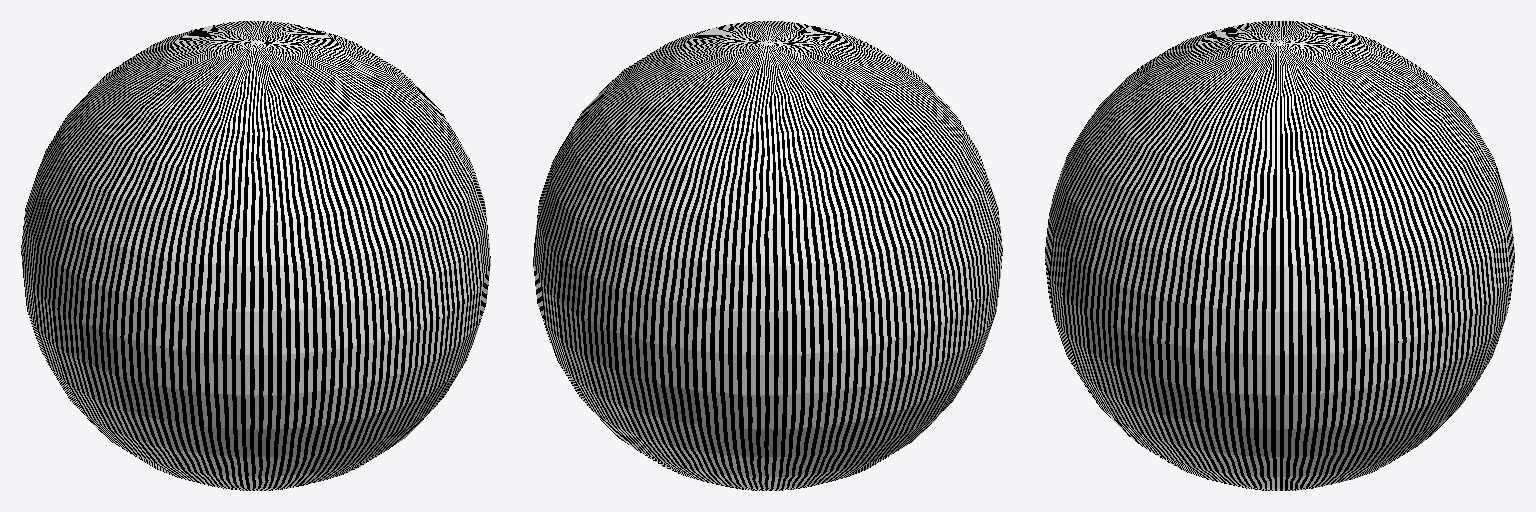
3 renders of one model, left to right at view 1: azimuth 30°, elevation 25°; view 2: azimuth 150°, elevation 25°; view 3: azimuth 270°, elevation 25°, orthographic.
Parts seen in each view (by area): view 1: Sphere; view 2: Sphere; view 3: Sphere.
Part boxes in pixels (left/top/right/bottom): Sphere: left=21, top=21, right=490, bottom=490; Sphere: left=533, top=21, right=1002, bottom=490; Sphere: left=1045, top=21, right=1514, bottom=490.
Size of the model in its own units: 0.8248 by 0.8248 by 0.8248.
Materials: 1 (1 with a texture image).